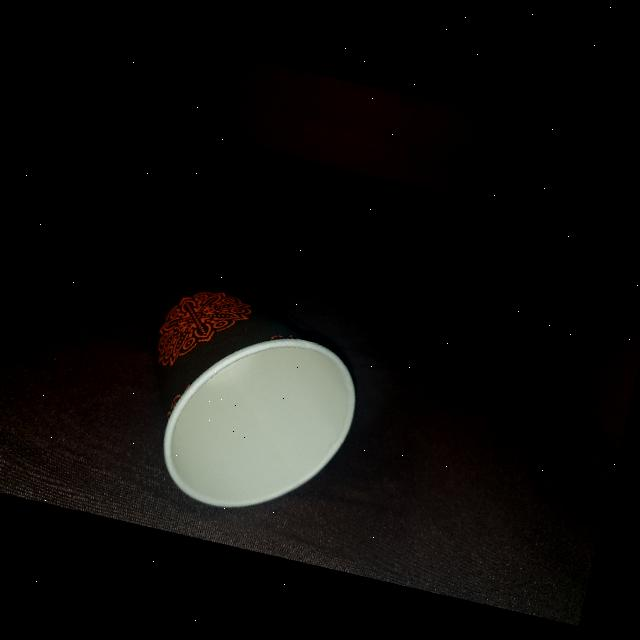trash: (106, 253, 388, 540)
